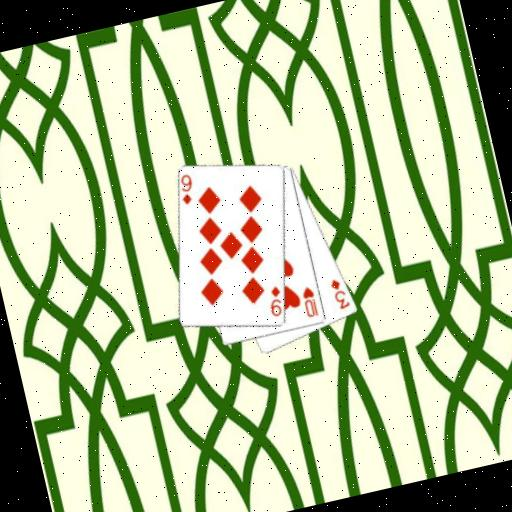10H: (298, 283, 321, 320)
3D: (327, 274, 353, 313)
9D: (262, 282, 287, 320), (174, 171, 199, 208)
